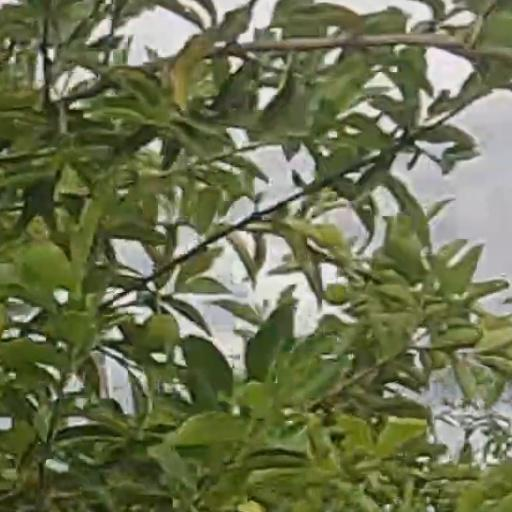acerola_verde: (485, 4, 511, 49), (144, 315, 176, 349), (324, 284, 347, 304)
